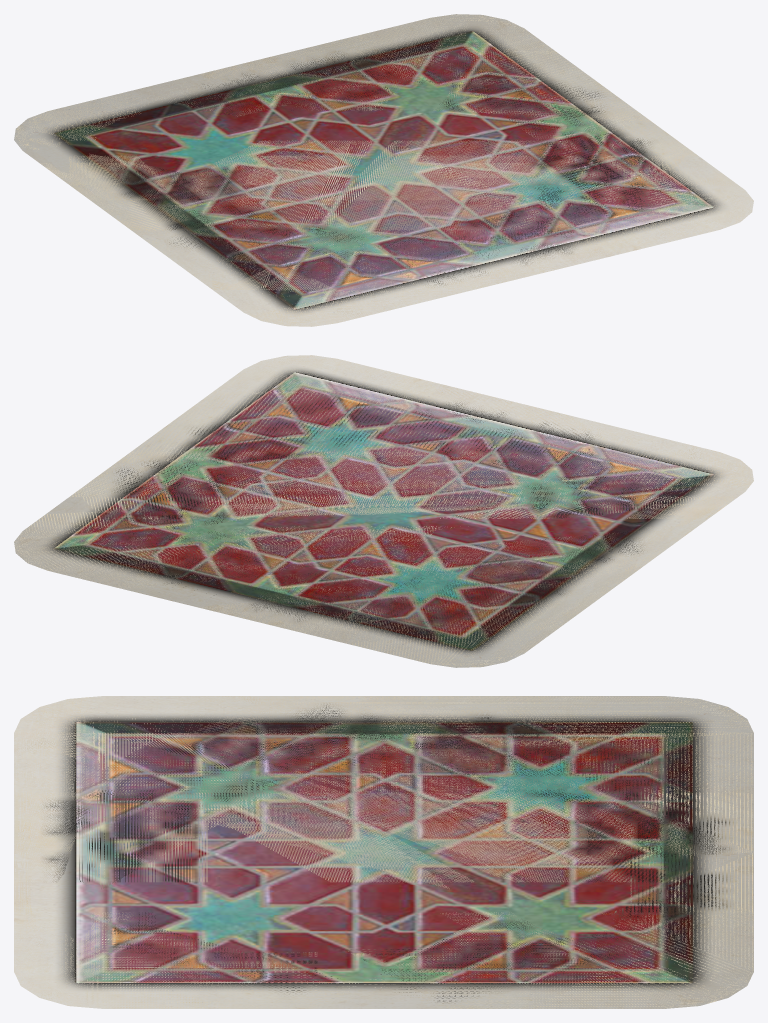
File: card9.fbx
3 renders of one model, top to bottom at view 1: azimuth 30°, elevation 25°; view 2: azimuth 150°, elevation 25°; view 3: azimuth 270°, elevation 25°, orthographic. The views are drawn at different scales.
Visible parts, largest first — view 1: polySurface1; view 2: polySurface1; view 3: polySurface1.
Boxes of the visible parts, left/top/right/bottom form: polySurface1: left=14, top=14, right=753, bottom=326; polySurface1: left=14, top=355, right=753, bottom=667; polySurface1: left=14, top=696, right=753, bottom=1008.
Size of the model in its own units: 1 by 0 by 1.
